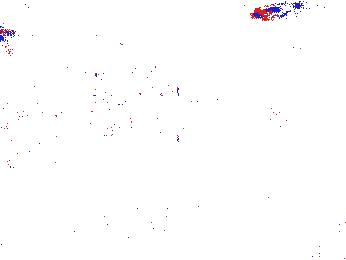X-ray fish: (79, 96, 148, 133)
red belly glassfish: (249, 1, 311, 22), (271, 42, 304, 60)
